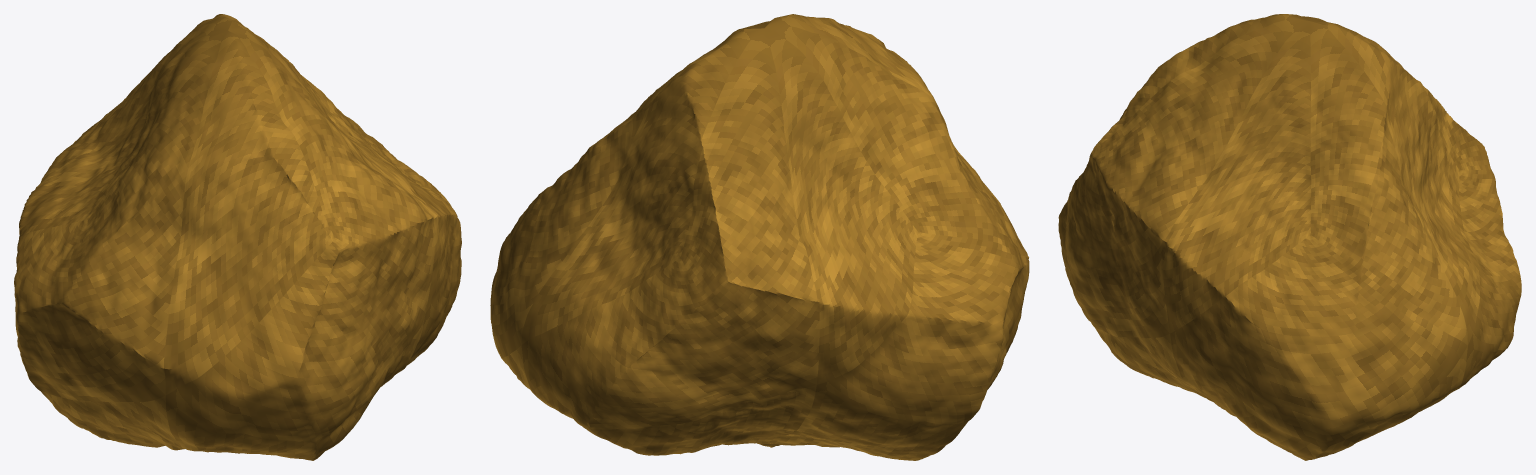
File: rock3.glb
3 views of the same model, side by side, from view 1: azimuth 30°, elevation 25°; view 2: azimuth 150°, elevation 25°; view 3: azimuth 270°, elevation 25° (orthographic). The views are drawn at different scales.
Visible parts, largest first — view 1: rock; view 2: rock; view 3: rock.
Boxes of the visible parts, x1,y1,x2,y2 form: rock: (14,14,461,460); rock: (490,14,1029,460); rock: (1058,14,1521,460).
Bounding box in the file's own units: 1.31 × 1.13 × 1.21.
Materials: 1 (1 with a texture image).
